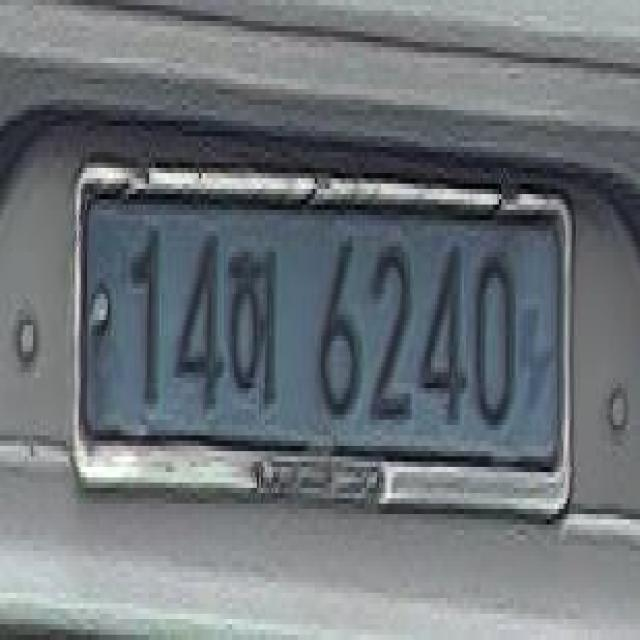EV_plate: (70, 152, 582, 545)
